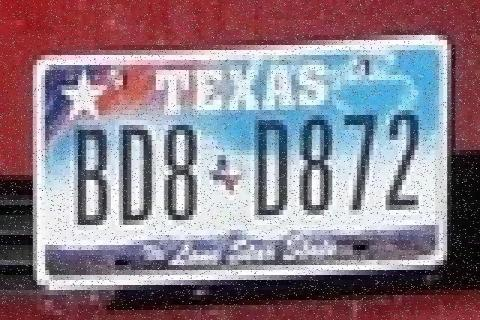LicensePlate: (29, 34, 450, 286)
